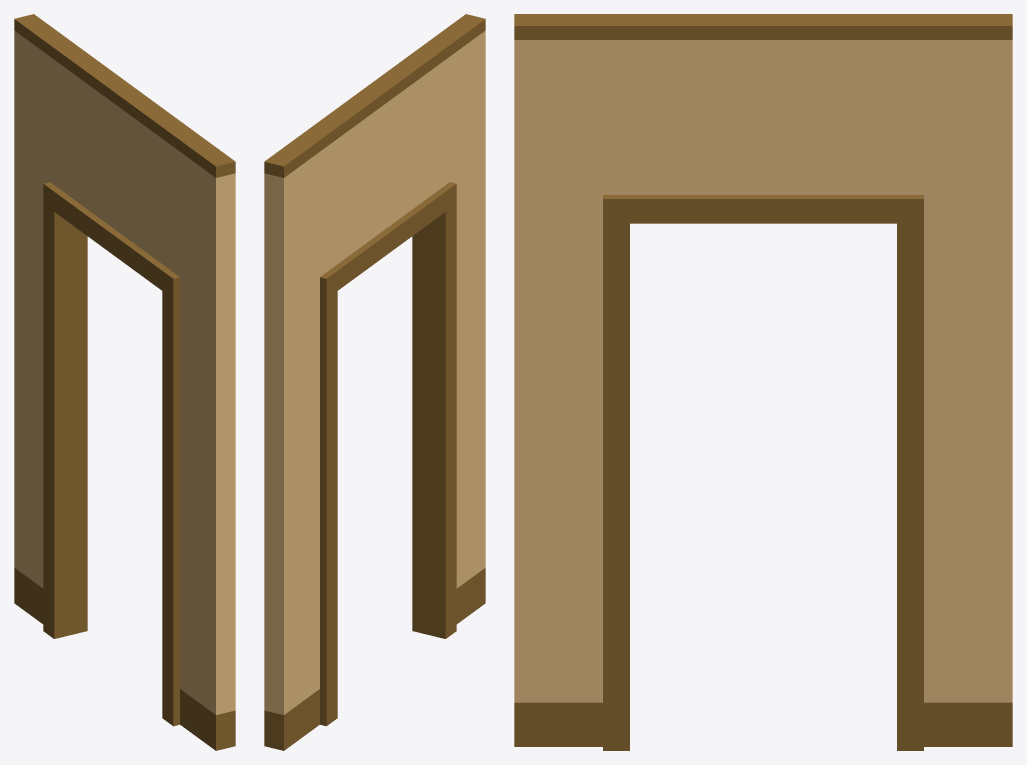
The model's file is doorframe.glb.
The picture shows the model from 3 angles, left to right: view 1: azimuth 30°, elevation 25°; view 2: azimuth 150°, elevation 25°; view 3: azimuth 270°, elevation 25°; orthographic projection. The views are drawn at different scales.
Parts seen in each view (by area): view 1: Cube; view 2: Cube; view 3: Cube.
Part boxes in pixels (<box>): Cube: <box>14,14,235,750</box>; Cube: <box>264,14,485,750</box>; Cube: <box>514,14,1012,750</box>.
Size of the model in its own units: 0.5209 by 8.75 by 5.48.
